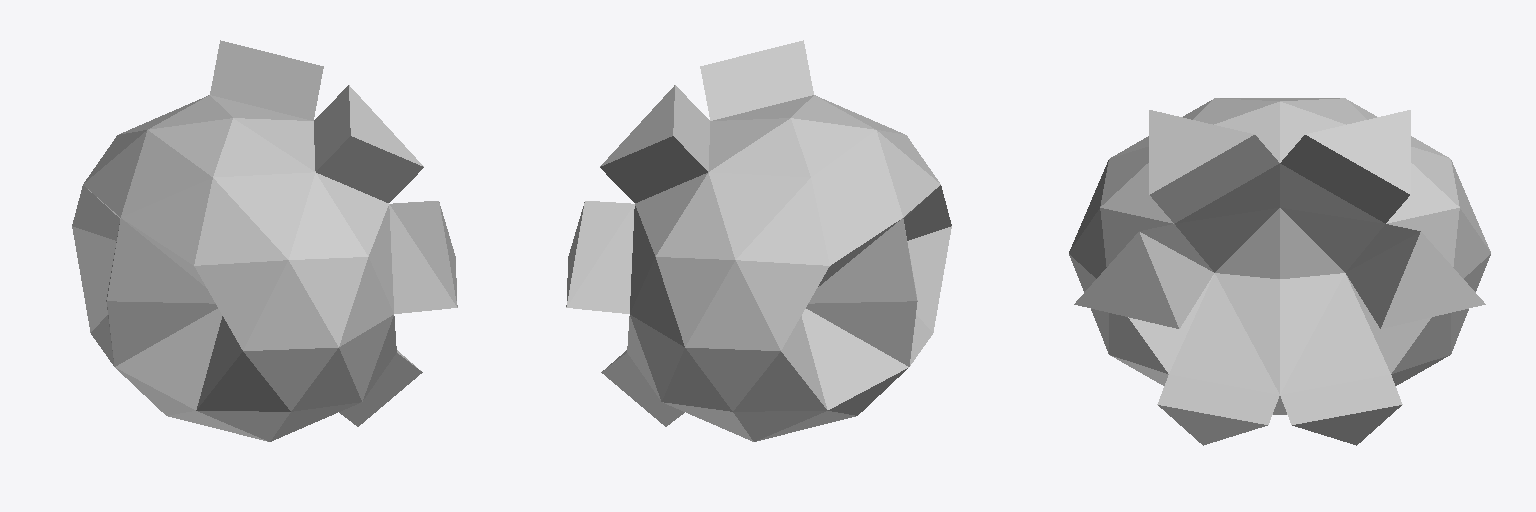
File: toggle_selfdestruct.obj
3 views of the same model, side by side, from view 1: azimuth 30°, elevation 25°; view 2: azimuth 150°, elevation 25°; view 3: azimuth 270°, elevation 25° (orthographic).
Parts seen in each view (by area): view 1: Cube.001_Cube.003; view 2: Cube.001_Cube.003; view 3: Cube.001_Cube.003.
Boxes of the visible parts, <box> form: Cube.001_Cube.003: <box>72,40,457,441</box>; Cube.001_Cube.003: <box>566,40,951,441</box>; Cube.001_Cube.003: <box>1069,98,1490,445</box>.
Size of the model in its own units: 1.63 by 1.68 by 2.